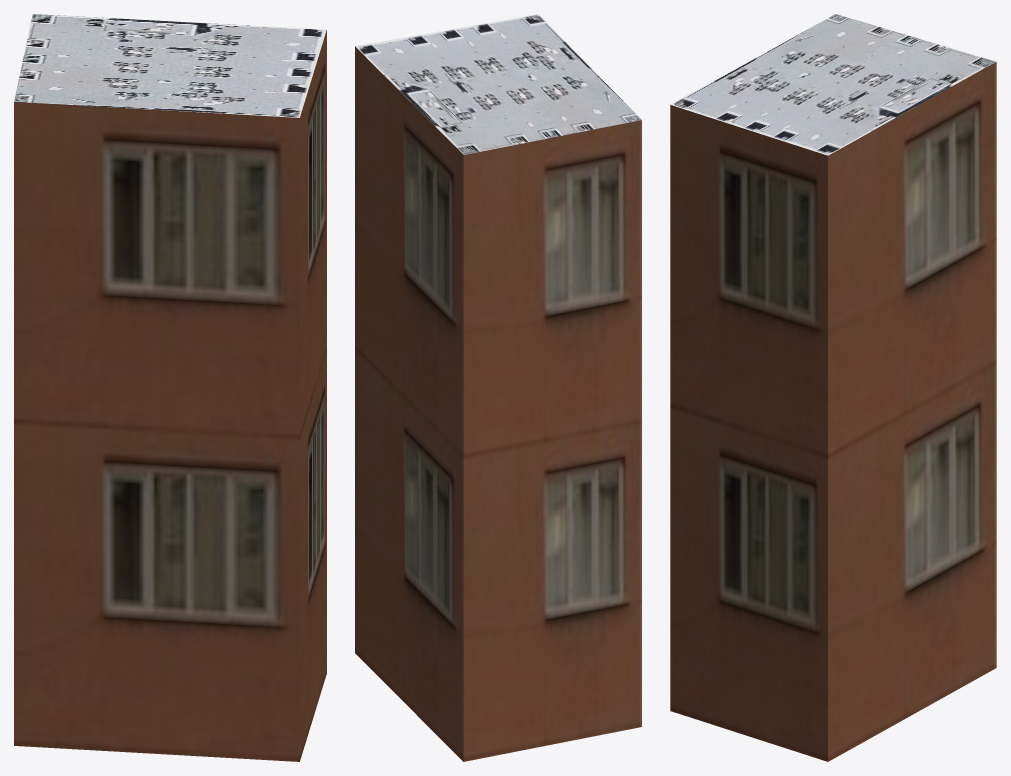
File: ResTex__191.fbx
3 views of the same model, side by side, from view 1: azimuth 30°, elevation 25°; view 2: azimuth 150°, elevation 25°; view 3: azimuth 270°, elevation 25° (orthographic). The views are drawn at different scales.
Visible parts, largest first — view 1: CityEngineMaterial_20_m, CityEngineMaterial_8_m; view 2: CityEngineMaterial_20_m, CityEngineMaterial_8_m; view 3: CityEngineMaterial_20_m, CityEngineMaterial_8_m.
Part boxes in pixels (<box>): CityEngineMaterial_20_m: <box>14,30,326,761</box>; CityEngineMaterial_8_m: <box>14,14,326,117</box>; CityEngineMaterial_20_m: <box>355,46,641,761</box>; CityEngineMaterial_8_m: <box>355,14,641,154</box>; CityEngineMaterial_20_m: <box>670,62,996,761</box>; CityEngineMaterial_8_m: <box>670,14,996,155</box>.
Size of the model in its own units: 3.01 by 6 by 2.93.
Materials: 2 (2 with a texture image).
